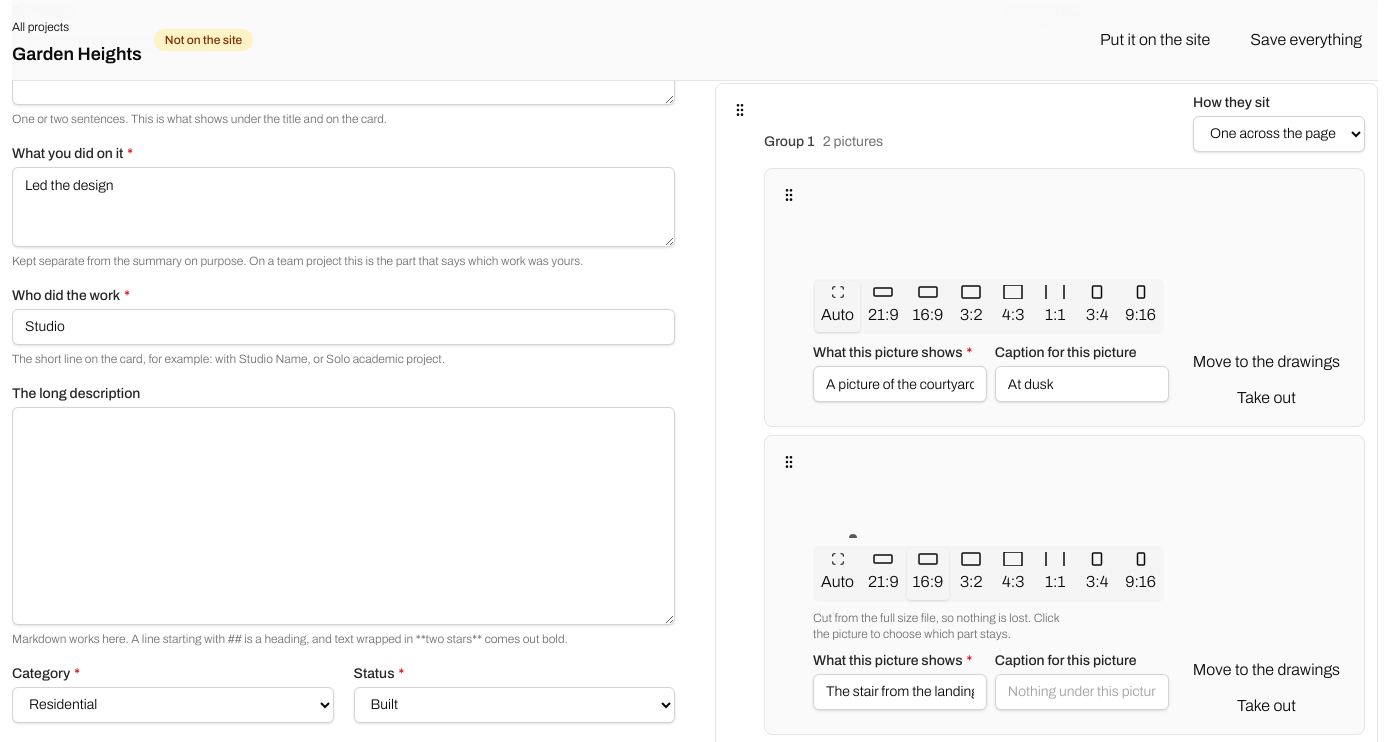
Test case: the one save button › says there is unsaved work as soon as something is typed
(page scrolled)
Check: the text "Not saved yet" is not shown
Type "!" into the 1st field labelled "Caption for this picture".
click(1082, 384); type("!")  # box [995,366,1169,402]
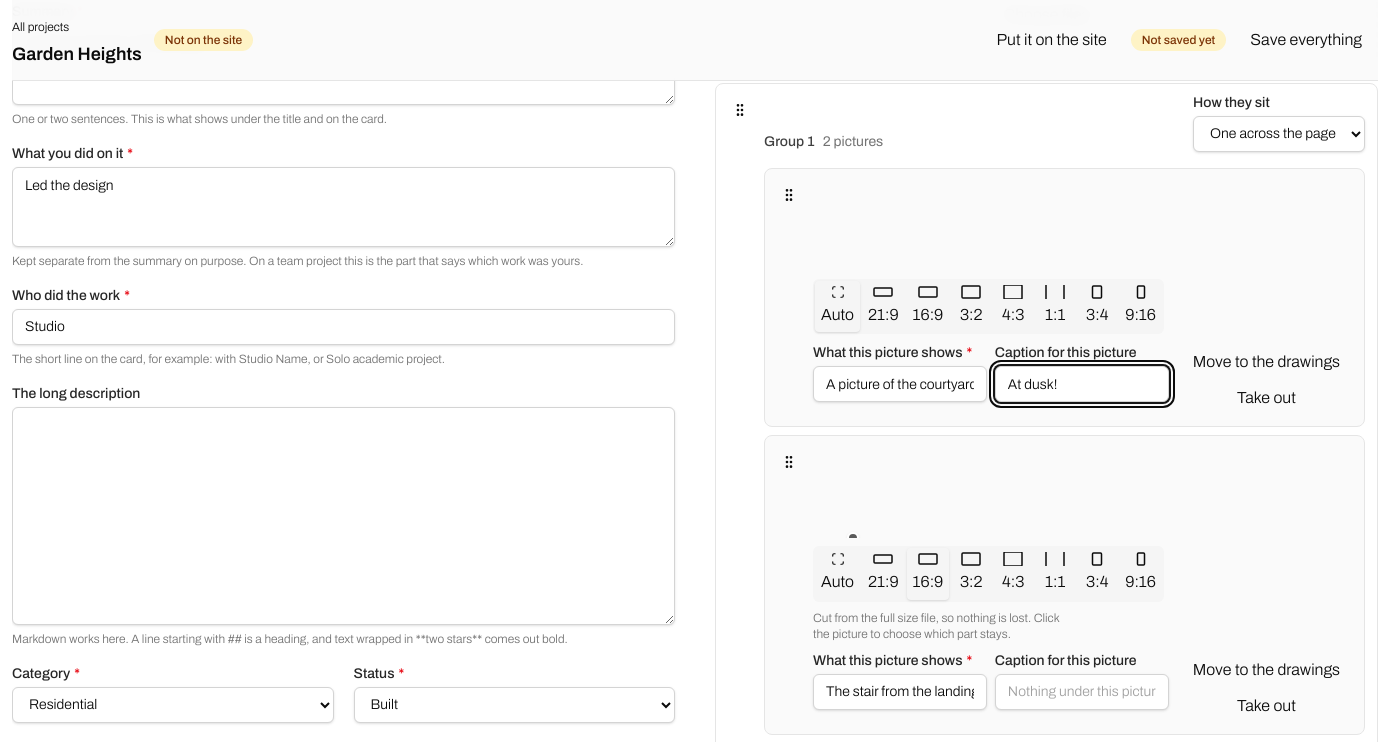
Check: the text "Not saved yet" is shown, box [1131,29,1226,51]
